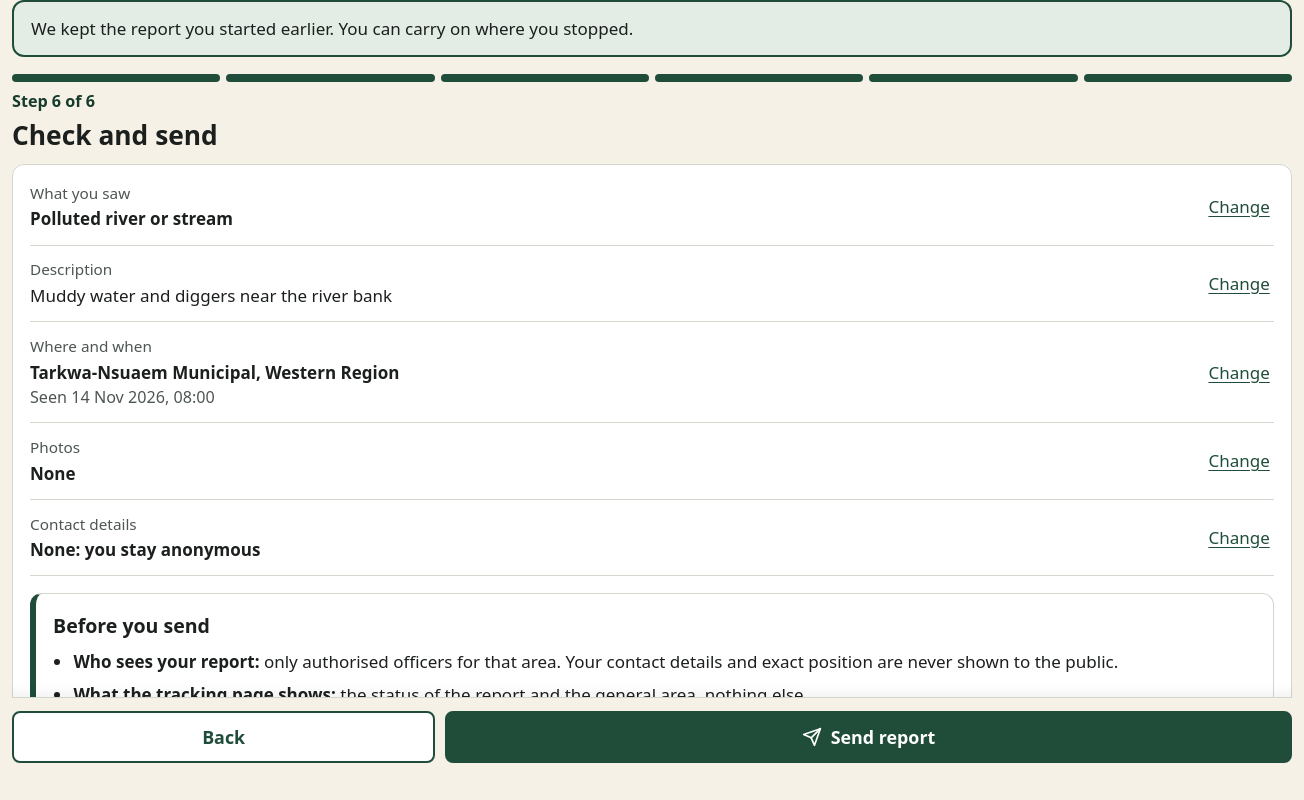
sending › shows the server's reason when it refuses the report
The image size is (1304, 800).
Expected: the heading "Check and send" is shown, x1=12 y1=116 x2=218 y2=152
Click the button "Send report": (869, 737) x1=446 y1=711 x2=1292 y2=763
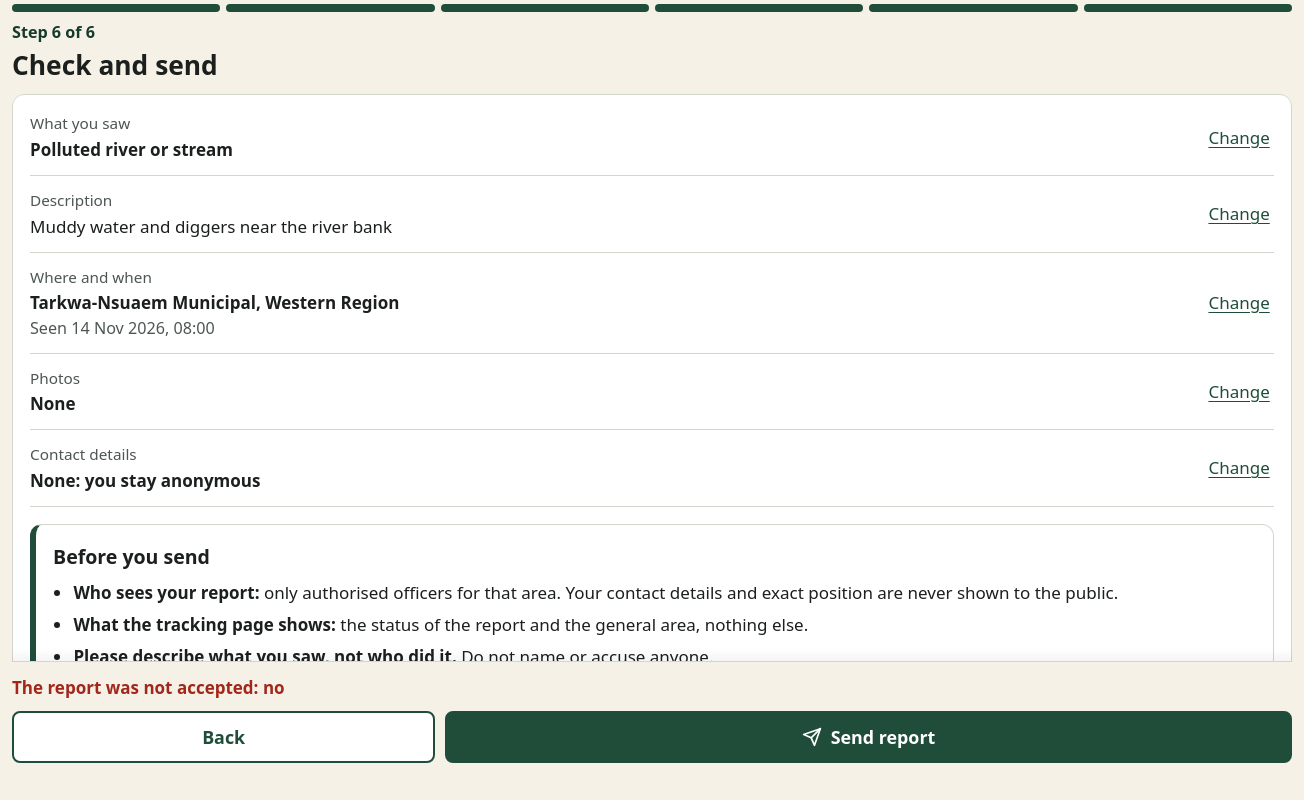
Result: the message reads "The report was not accepted: no" at x1=12 y1=676 x2=285 y2=698
